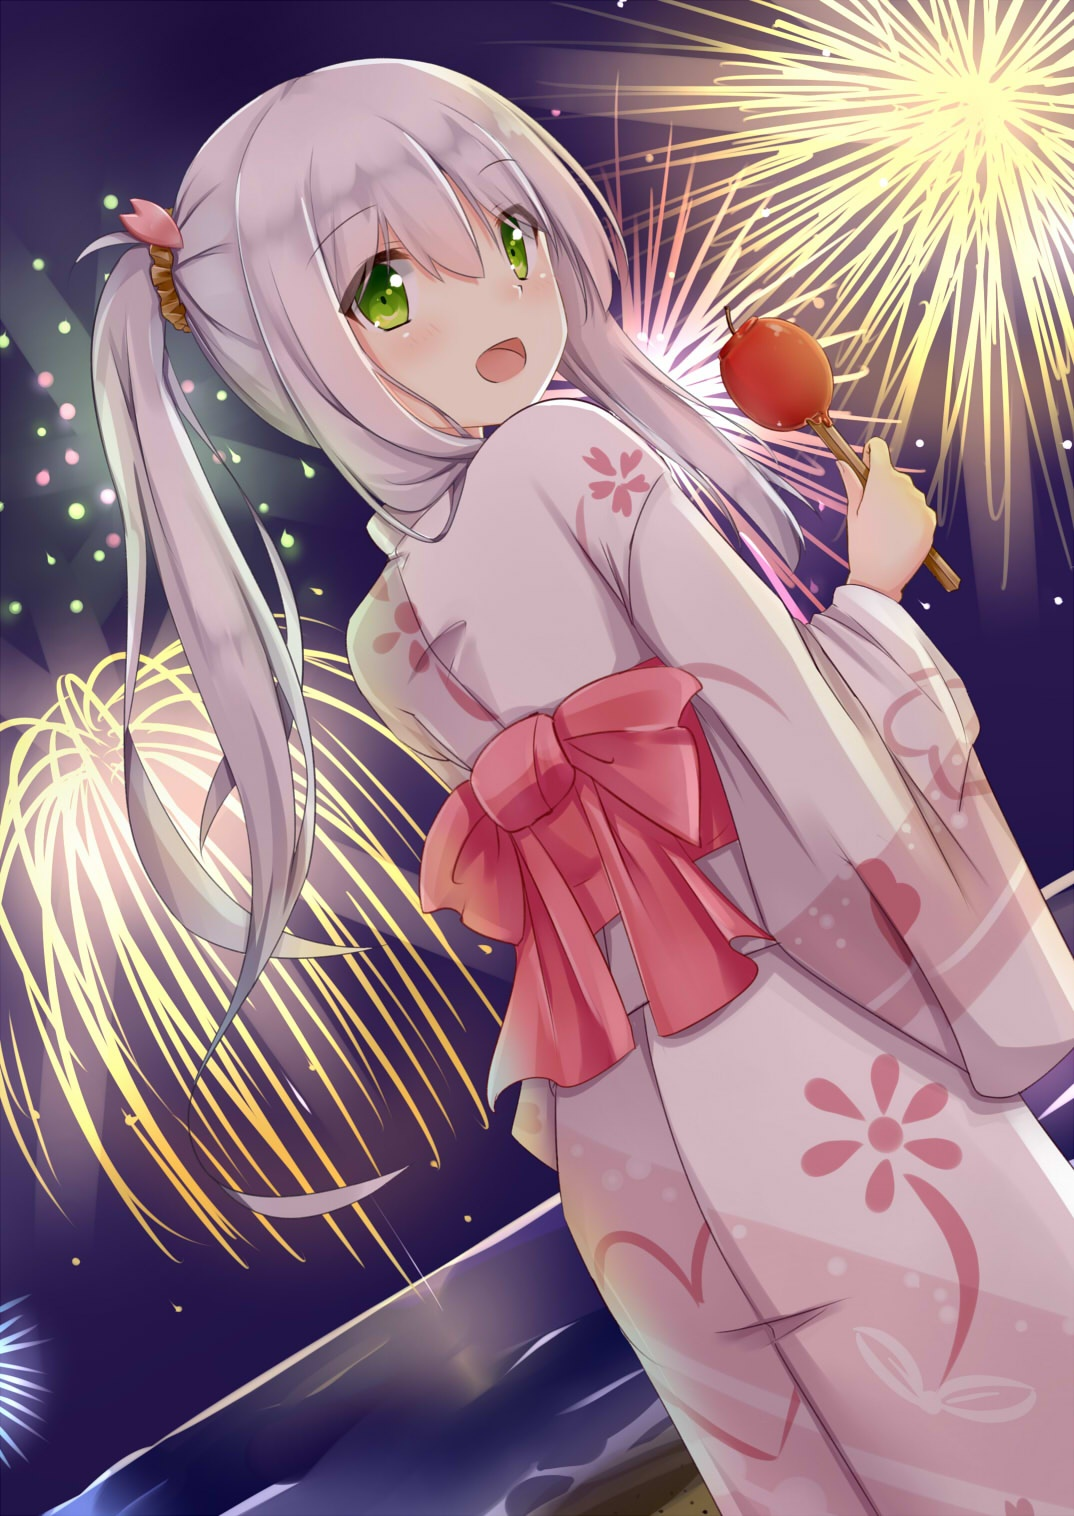纸片人正脸: (141, 48, 617, 465)
